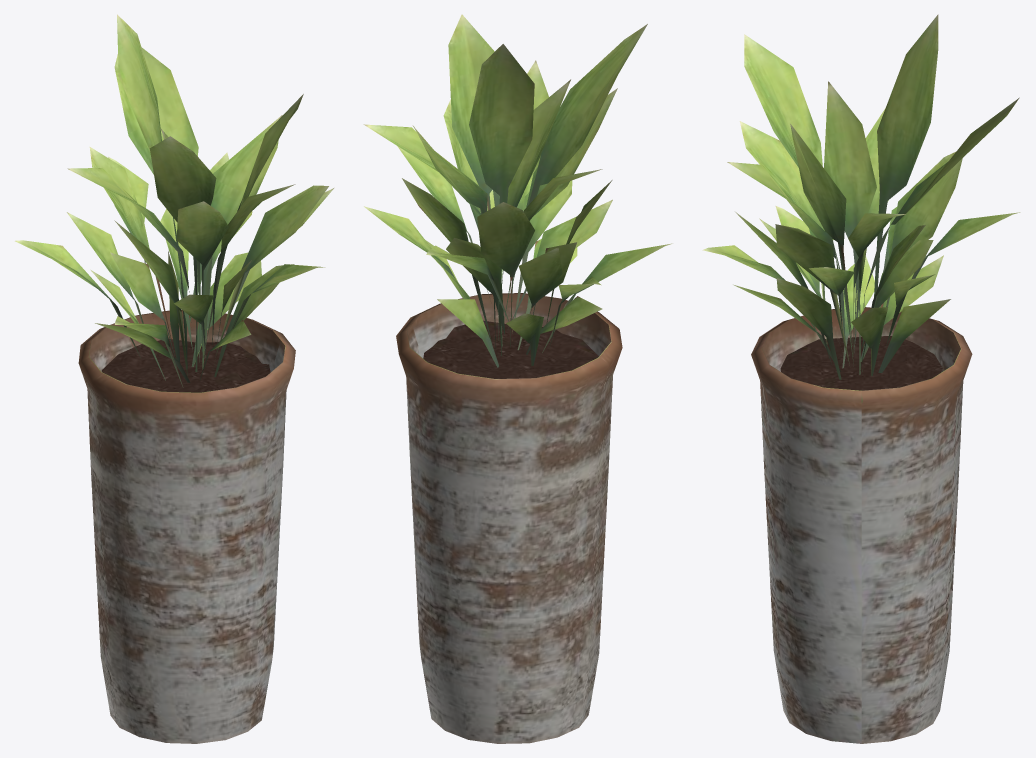
File: Plant0005.obj
3 renders of one model, left to right at view 1: azimuth 30°, elevation 25°; view 2: azimuth 150°, elevation 25°; view 3: azimuth 270°, elevation 25°, orthographic. The views are drawn at different scales.
Bounding box in the file's own units: 0.534 × 1.32 × 0.563.
Materials: 1 (1 with a texture image).
